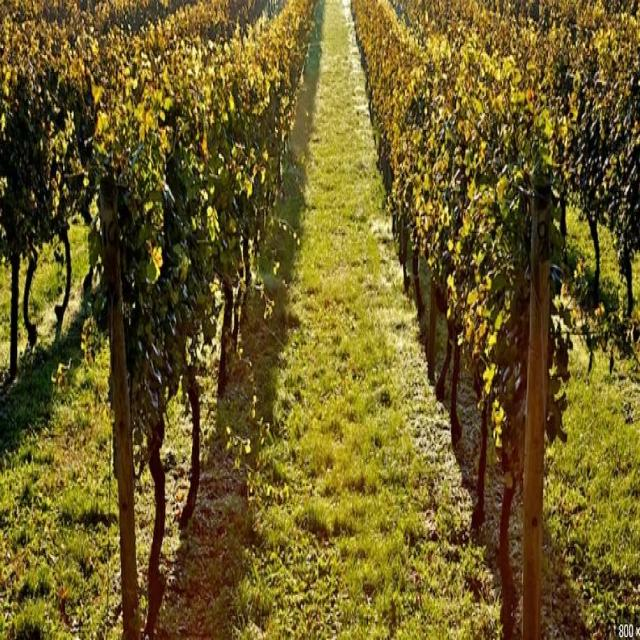row: (162, 2, 499, 638)
